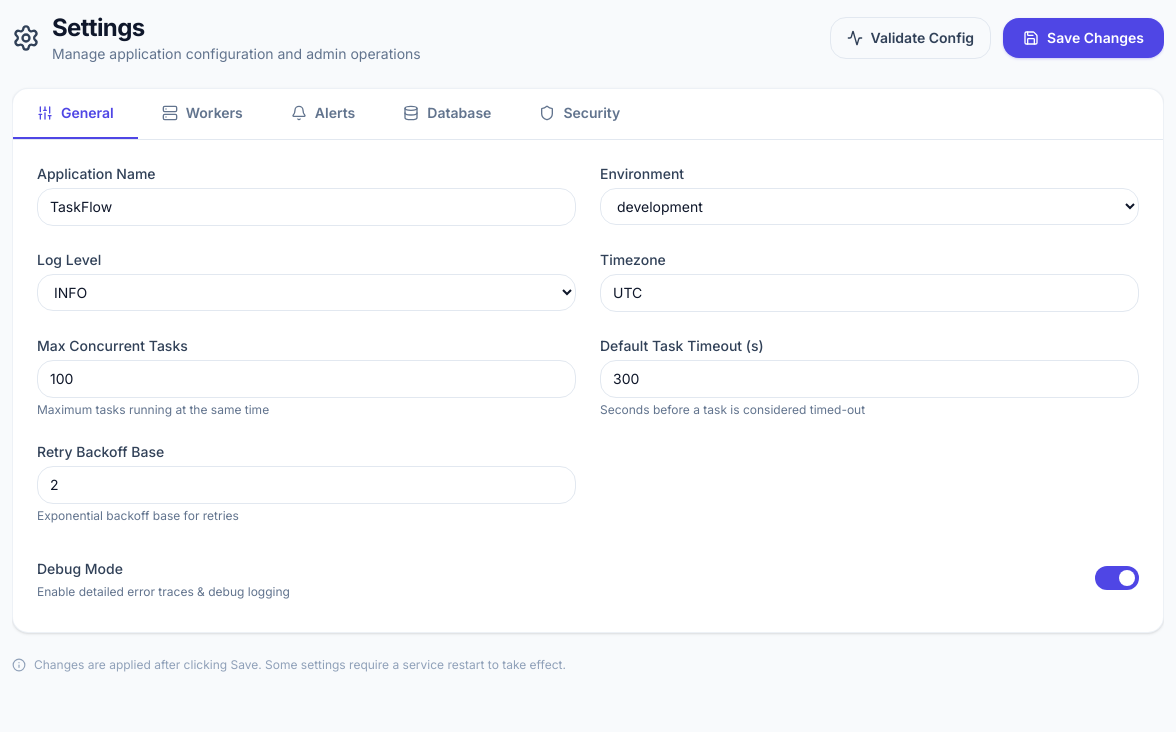
Test: SettingsPage › switches to Alerts tab and shows rules
Click the button "Alerts": point(323, 114) x1=267 y1=89 x2=379 y2=139
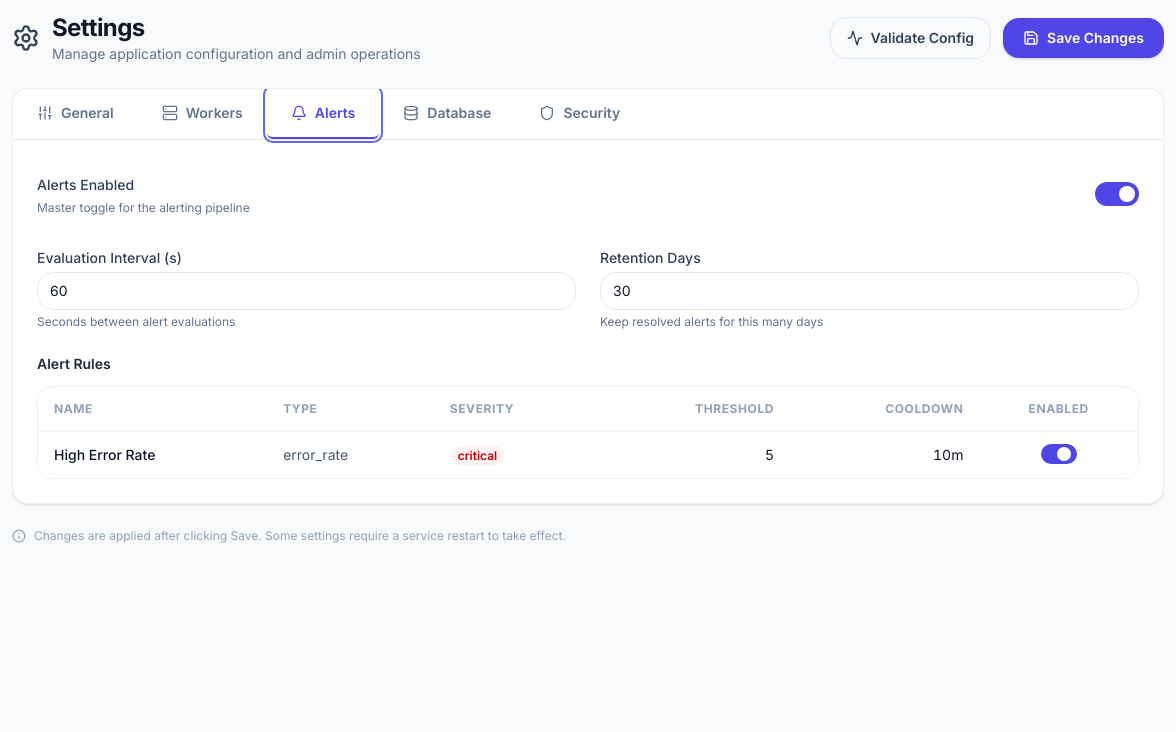
Expected: the heading "Alert Rules" is shown, x1=37 y1=355 x2=111 y2=372
Expected: the text "High Error Rate" is shown, x1=38 y1=431 x2=267 y2=478
